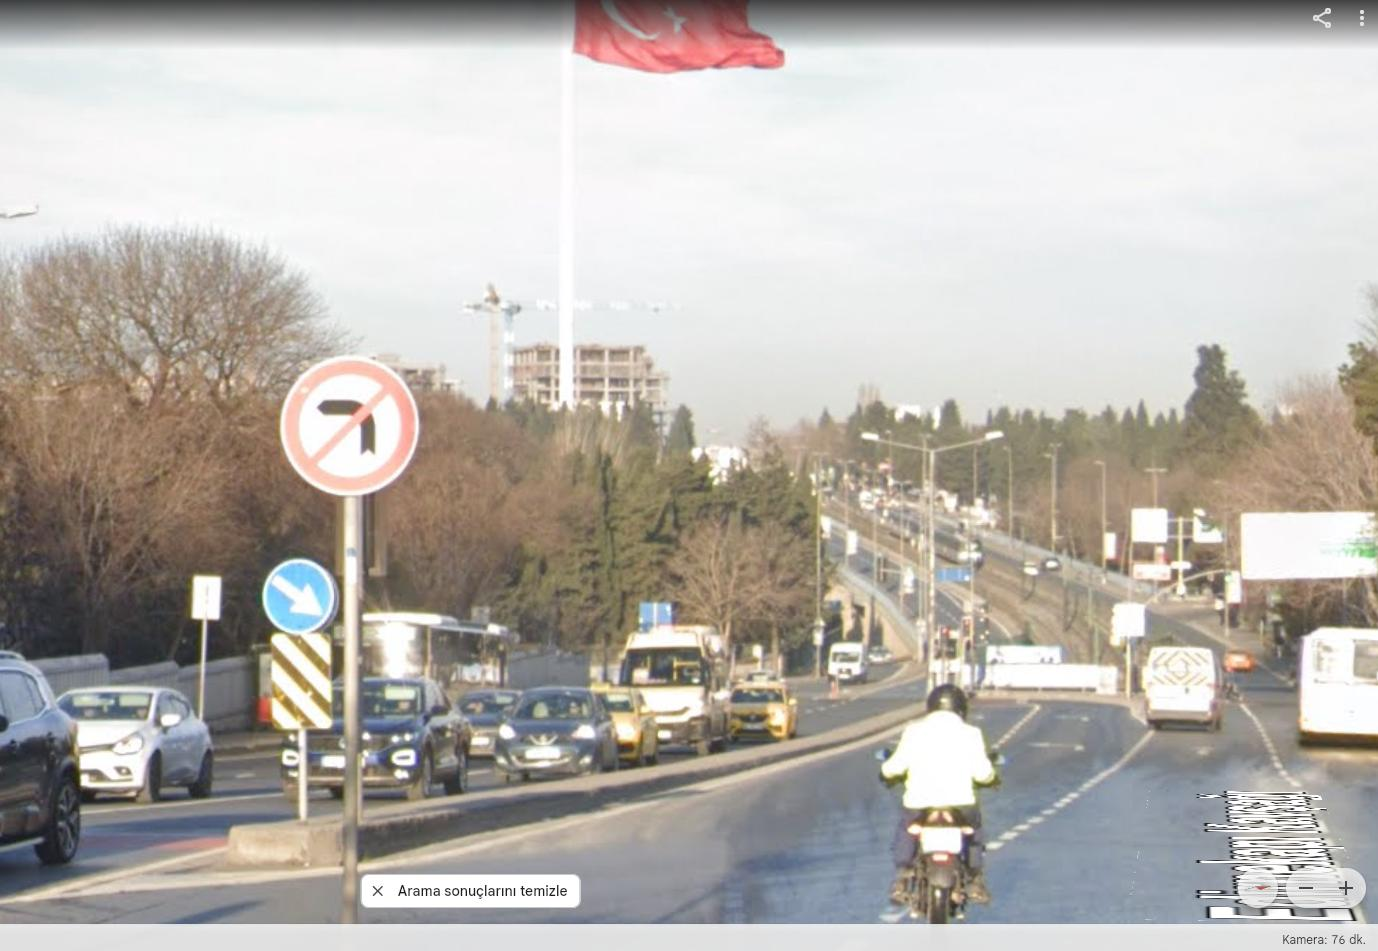leftturnsareforbidden: (286, 356, 435, 500)
